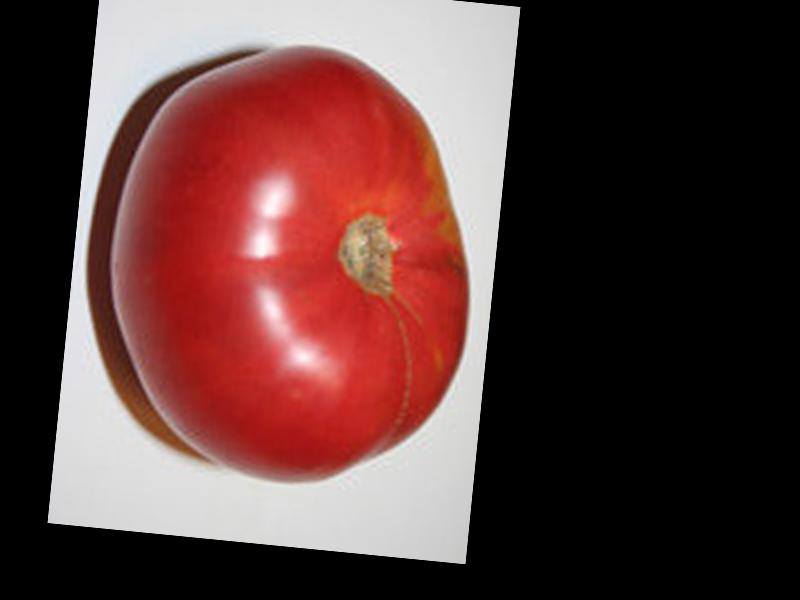Tomato: (100, 27, 497, 501)
